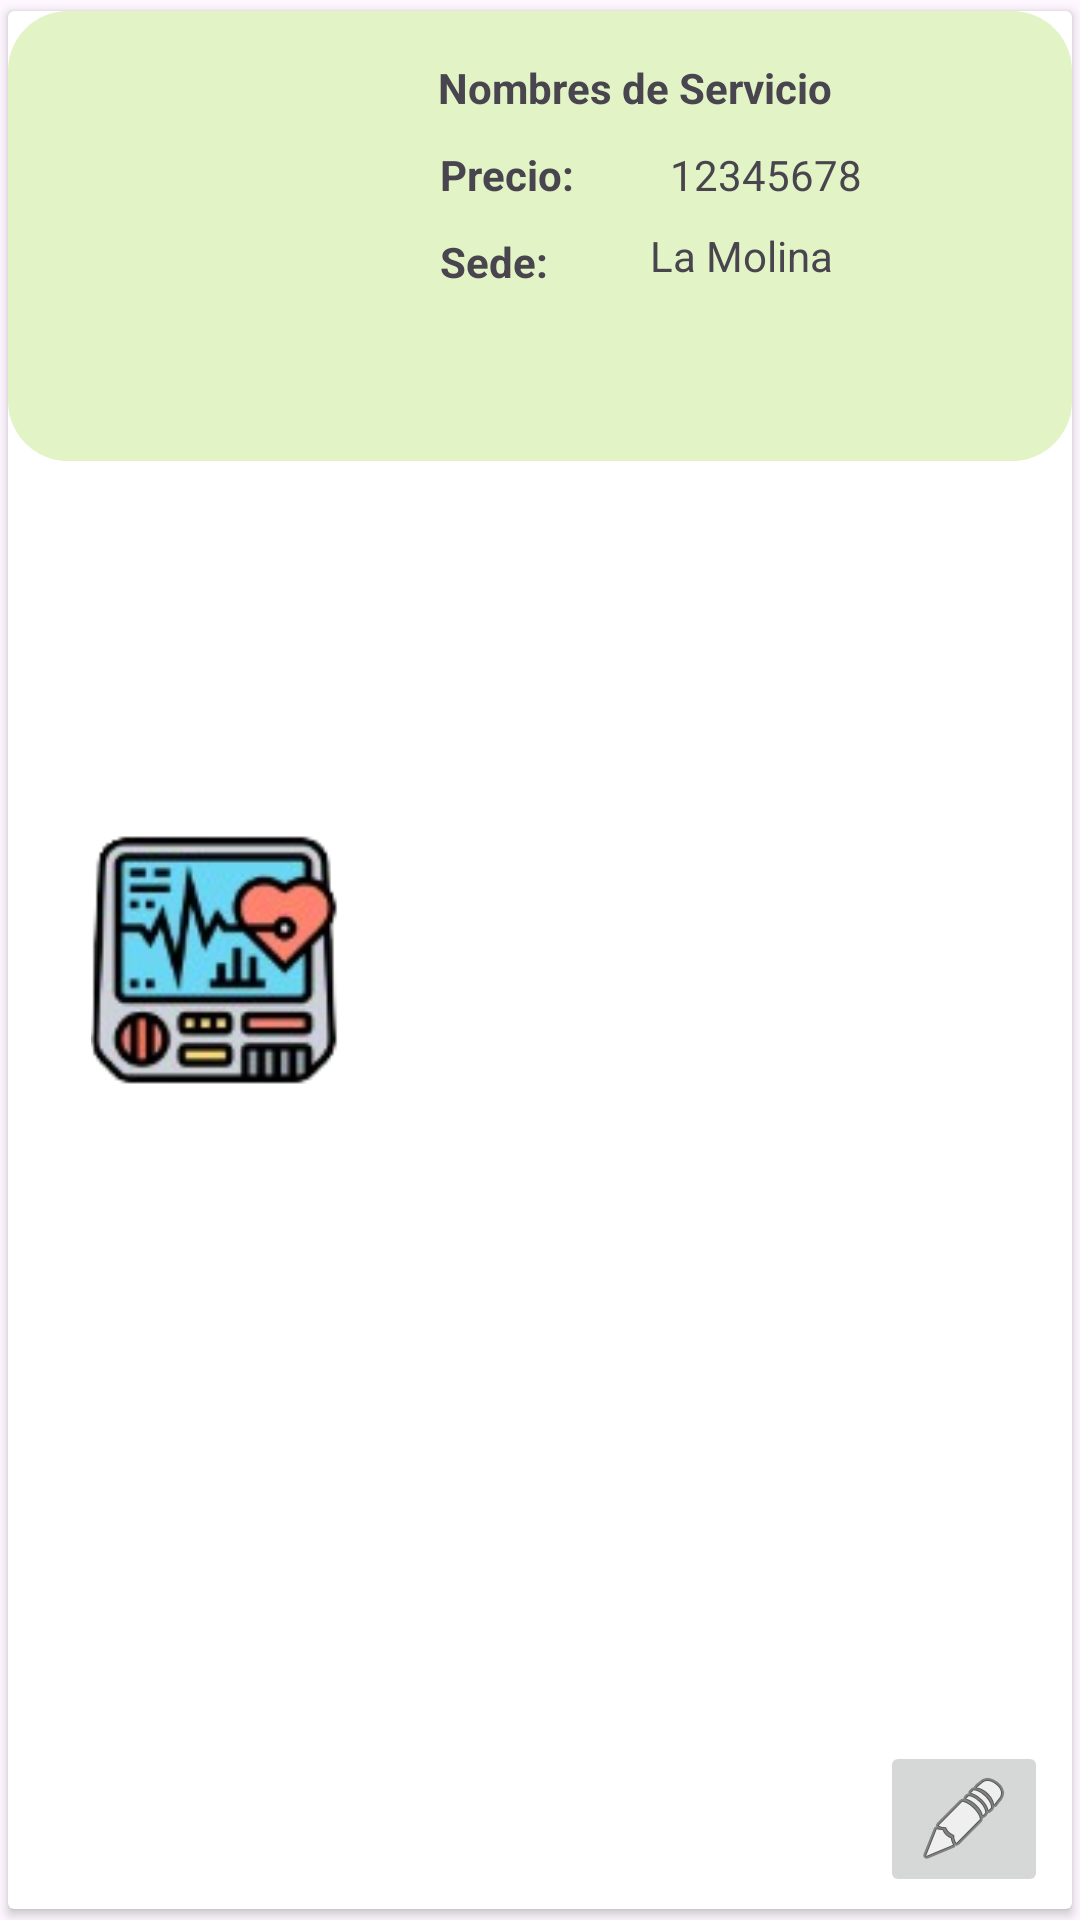

Screen size 1080w x 1920h. Icon name, then its center in pixels as point (x, y):
cardiologia: point (214, 960)
edit: point (964, 1819)
